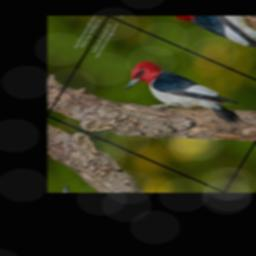Woodpecker: (118, 55, 256, 146)
